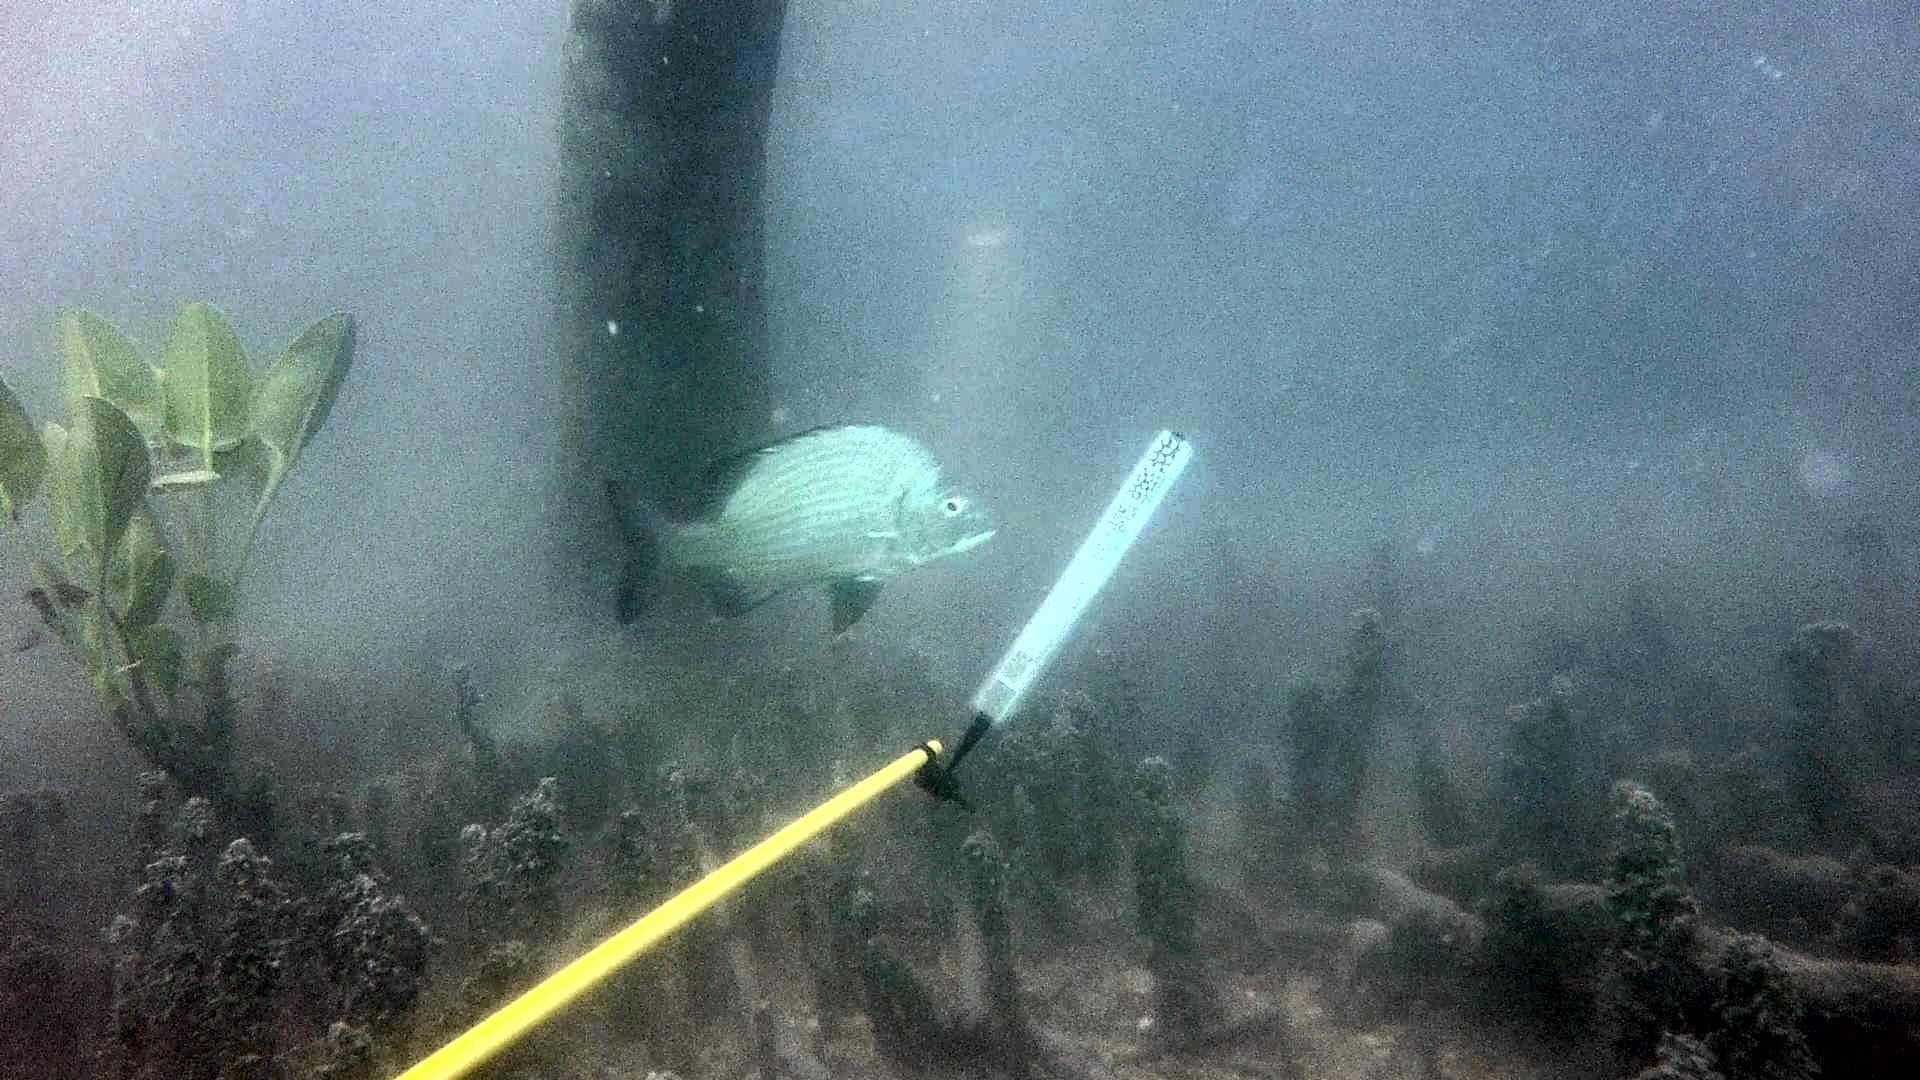acanthopagrus palmaris: (597, 413, 1010, 646)
